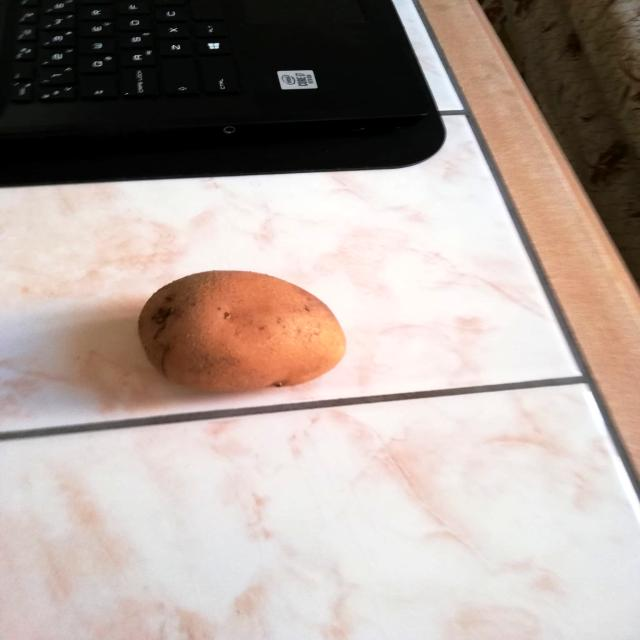potato: (126, 259, 360, 398)
